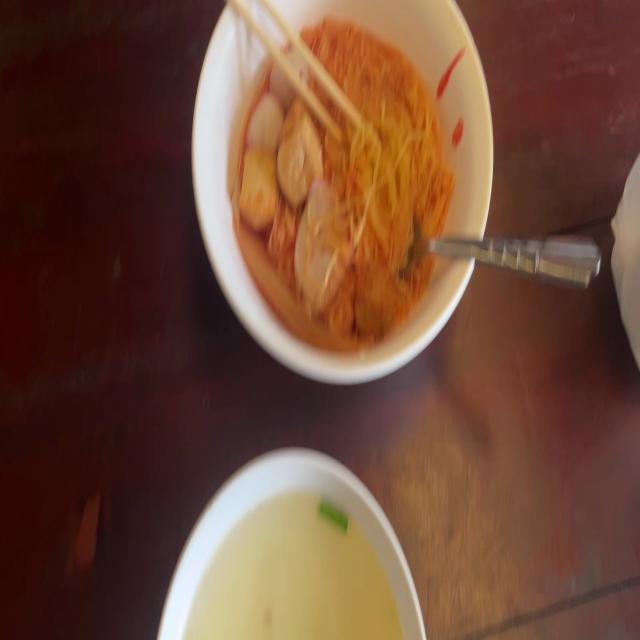crunchy_squid: (232, 218, 359, 351)
egg_noodles: (306, 16, 452, 311)
fish_ball: (245, 93, 286, 152), (270, 46, 306, 108)
fried_fish_balls: (293, 161, 354, 314)
fried_tofu: (275, 95, 325, 211)
noodle: (232, 16, 453, 359)
tofu: (238, 144, 282, 230)
